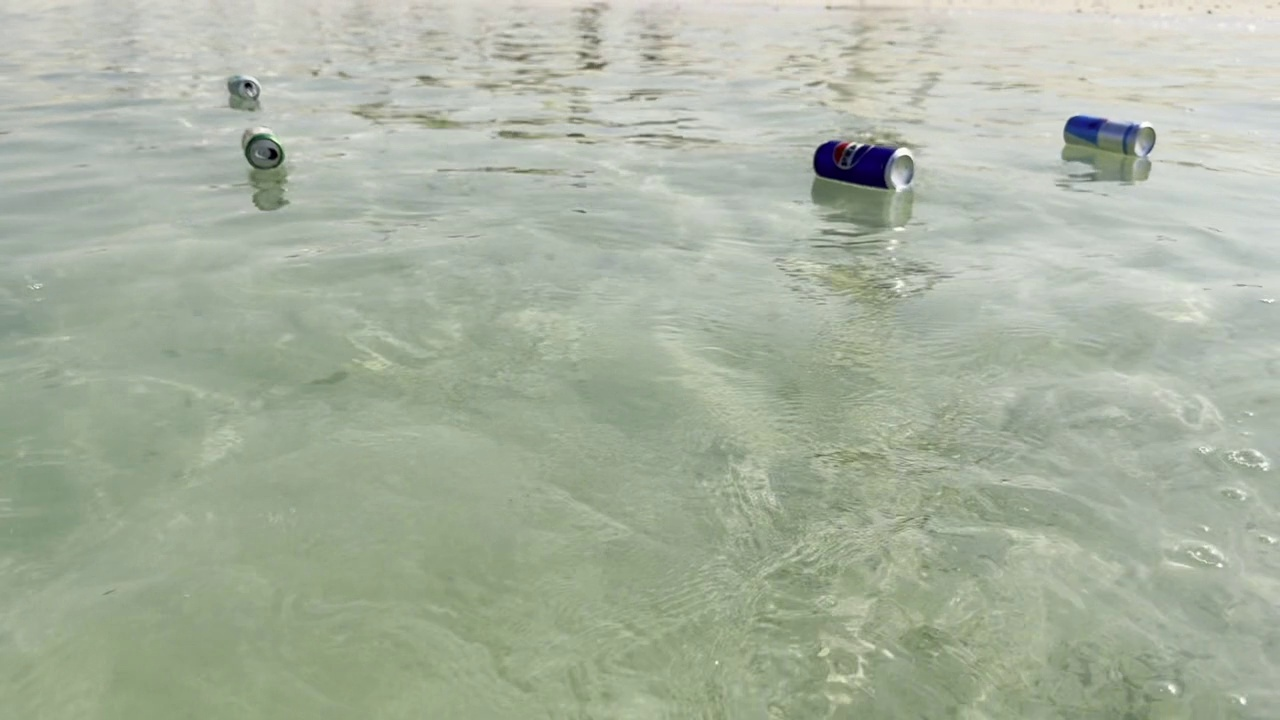debris: (805, 130, 924, 199), (1054, 108, 1162, 170), (237, 119, 285, 179), (219, 71, 262, 101)
